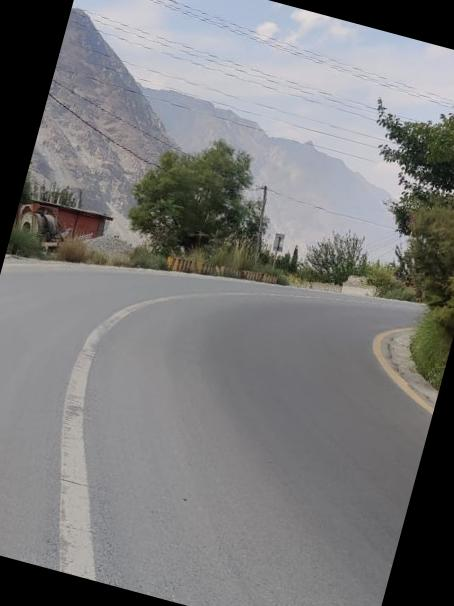right_turn: (46, 136, 454, 434)
